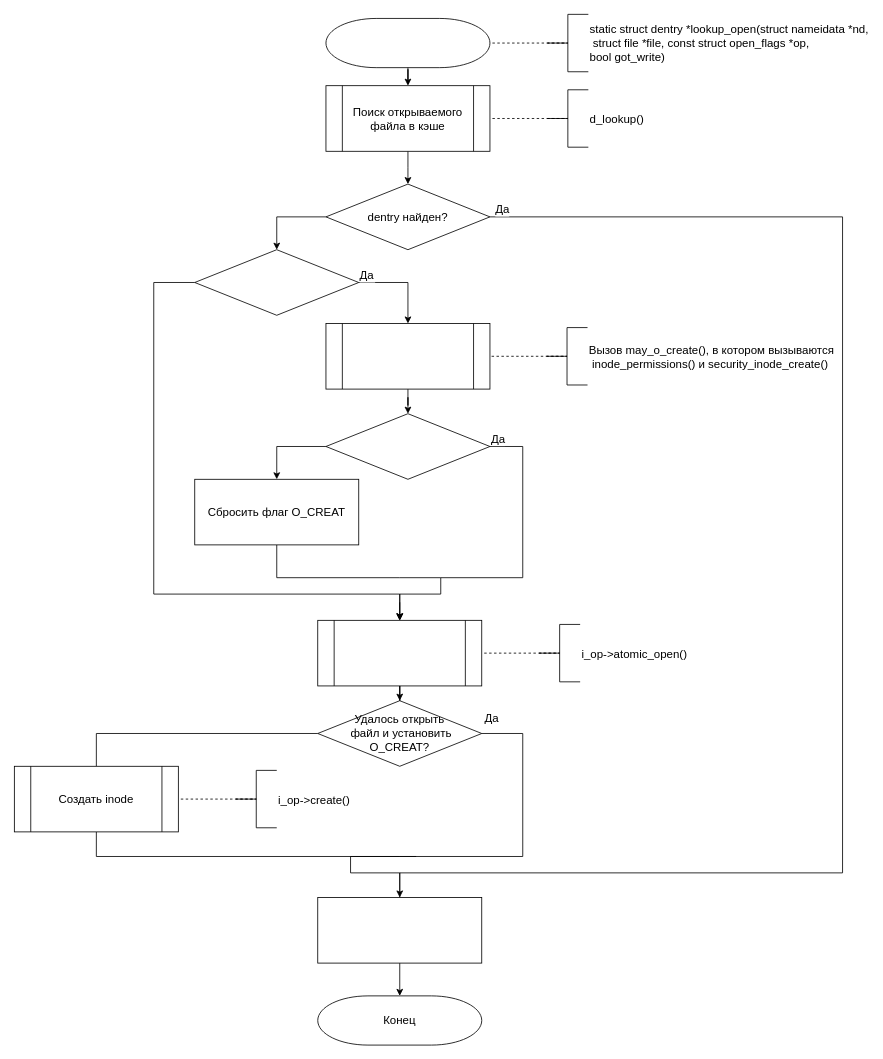
The diagram is 883 pixels wide and 1059 high, and some of its shapes have lost their labels. The shapes that lost their labels are listed below. From the top down, each one's box as (x1, y1, x2, y2) in pixels, then its label:
(325, 18, 490, 68): Начало
(194, 249, 359, 315): Установлен флаг O_CREAT?
(325, 323, 490, 389): Проверка прав доступа на создание inode
(325, 413, 490, 479): Прав достаточно?
(317, 620, 482, 686): Открыть файл
(317, 897, 482, 963): Возврат struct dentry *
